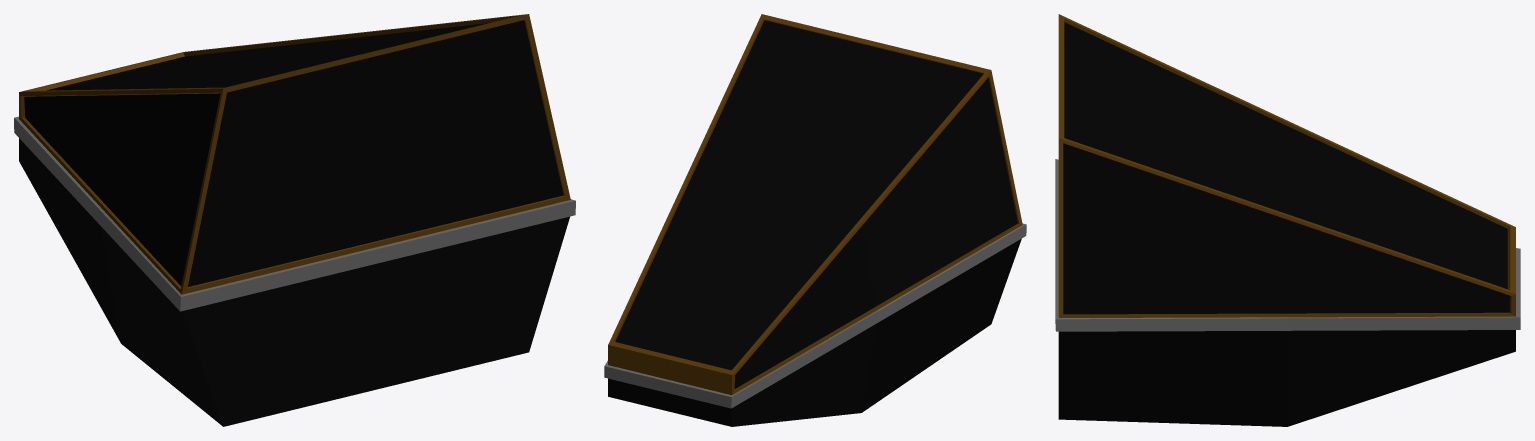
The model's file is E-2_ControlSystem_Part_Wipeout.fbx.
3 views of the same model, side by side, from view 1: azimuth 30°, elevation 25°; view 2: azimuth 150°, elevation 25°; view 3: azimuth 270°, elevation 25° (orthographic). The views are drawn at different scales.
Parts seen in each view (by area): view 1: E-2_Control System_Ship; view 2: E-2_Control System_Ship; view 3: E-2_Control System_Ship.
Boxes of the visible parts, x1,y1,x2,y2 form: E-2_Control System_Ship: (14,14,575,426); E-2_Control System_Ship: (604,14,1026,426); E-2_Control System_Ship: (1055,14,1520,426).
Size of the model in its own units: 259 by 317 by 228.
